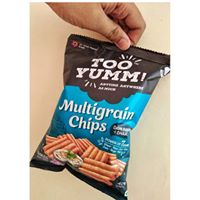plastic: (45, 45, 169, 167)
tooyumm: (77, 54, 155, 86)
wrapper: (34, 47, 170, 168)
